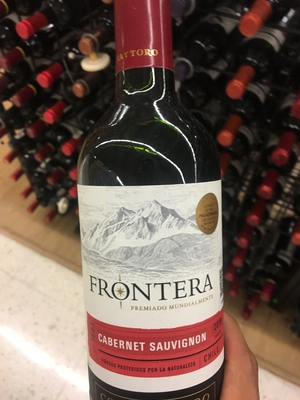frontera cabernet sauvignon: (71, 6, 241, 397)
